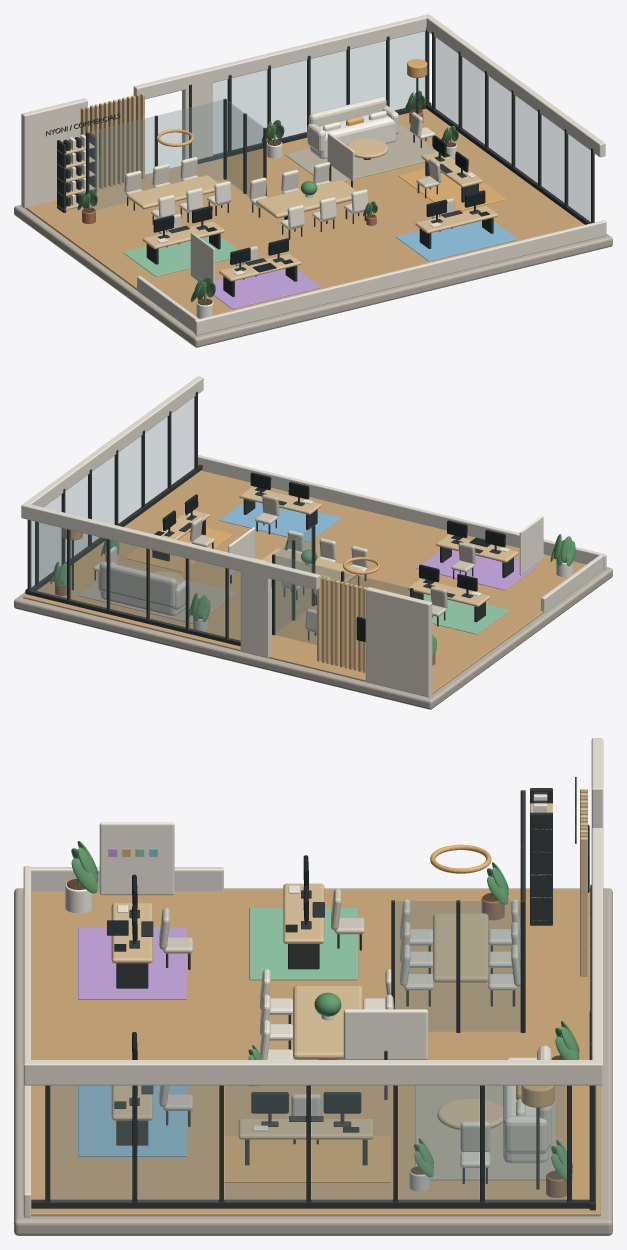
File: commercials_floor.glb
3 renders of one model, top to bottom at view 1: azimuth 30°, elevation 25°; view 2: azimuth 150°, elevation 25°; view 3: azimuth 270°, elevation 25°, orthographic. The views are drawn at different scales.
Visible parts, largest first — view 1: ARCH_OAK_FLOOR, MEETING_GLASS_BACK, ARCH_FLOOR_SLAB, ARCH_FRONT_EDGE, ARCH_BACK_TOP_BEAM, ARCH_BACK_WALL_LEFT, ARCH_RIGHT_TOP_BEAM, LOUNGE_RUG, MEETING_GLASS_SIDE, RUG_PULSE, WIN_BACK_GLASS_2, WIN_BACK_GLASS_1 (+31 smaller); view 2: ARCH_OAK_FLOOR, ARCH_FLOOR_SLAB, ARCH_BACK_WALL_LEFT, ARCH_BACK_TOP_BEAM, ARCH_FRONT_EDGE, MEETING_GLASS_BACK, ARCH_RIGHT_TOP_BEAM, ARCH_BACK_WALL_MID, WIN_BACK_GLASS_4, WIN_BACK_GLASS_5, WIN_BACK_GLASS_1, WIN_BACK_GLASS_2 (+29 smaller); view 3: ARCH_OAK_FLOOR, ARCH_FLOOR_SLAB, MEETING_GLASS_SIDE, ARCH_RIGHT_TOP_BEAM, WIN_RIGHT_GLASS_5, WIN_RIGHT_GLASS_0, WIN_RIGHT_GLASS_1, WIN_RIGHT_GLASS_2, WIN_RIGHT_GLASS_3, WIN_RIGHT_GLASS_4, RUG_HUNTER, LOUNGE_RUG (+34 smaller).
Part boxes in pixels (bbox=[...]): ARCH_OAK_FLOOR: bbox=[25, 108, 584, 318]; MEETING_GLASS_BACK: bbox=[88, 99, 223, 209]; ARCH_FLOOR_SLAB: bbox=[14, 166, 612, 347]; ARCH_FRONT_EDGE: bbox=[194, 220, 606, 335]; ARCH_BACK_TOP_BEAM: bbox=[133, 14, 430, 99]; ARCH_BACK_WALL_LEFT: bbox=[21, 98, 87, 208]; ARCH_RIGHT_TOP_BEAM: bbox=[425, 15, 605, 157]; LOUNGE_RUG: bbox=[284, 125, 436, 181]; MEETING_GLASS_SIDE: bbox=[226, 100, 264, 195]; RUG_PULSE: bbox=[396, 220, 517, 261]; WIN_BACK_GLASS_2: bbox=[271, 60, 306, 139]; WIN_BACK_GLASS_1: bbox=[232, 70, 266, 149]; ARCH_OAK_FLOOR: bbox=[23, 470, 586, 694]; ARCH_FLOOR_SLAB: bbox=[14, 567, 612, 709]; ARCH_BACK_WALL_LEFT: bbox=[365, 587, 432, 697]; ARCH_BACK_TOP_BEAM: bbox=[21, 503, 319, 589]; ARCH_FRONT_EDGE: bbox=[198, 455, 606, 569]; MEETING_GLASS_BACK: bbox=[275, 555, 410, 644]; ARCH_RIGHT_TOP_BEAM: bbox=[22, 376, 203, 512]; ARCH_BACK_WALL_MID: bbox=[240, 556, 271, 658]; WIN_BACK_GLASS_4: bbox=[69, 530, 105, 609]; WIN_BACK_GLASS_5: bbox=[30, 520, 66, 599]; WIN_BACK_GLASS_1: bbox=[188, 559, 224, 637]; WIN_BACK_GLASS_2: bbox=[148, 549, 184, 628]; ARCH_OAK_FLOOR: bbox=[31, 889, 600, 1216]; ARCH_FLOOR_SLAB: bbox=[14, 888, 612, 1235]; MEETING_GLASS_SIDE: bbox=[395, 901, 520, 1031]; ARCH_RIGHT_TOP_BEAM: bbox=[23, 1060, 603, 1085]; WIN_RIGHT_GLASS_5: bbox=[485, 1086, 566, 1202]; WIN_RIGHT_GLASS_0: bbox=[51, 1086, 131, 1202]; WIN_RIGHT_GLASS_1: bbox=[138, 1086, 218, 1202]; WIN_RIGHT_GLASS_2: bbox=[225, 1086, 305, 1202]; WIN_RIGHT_GLASS_3: bbox=[312, 1086, 392, 1202]; WIN_RIGHT_GLASS_4: bbox=[399, 1086, 479, 1202]; RUG_HUNTER: bbox=[224, 1136, 390, 1182]; LOUNGE_RUG: bbox=[415, 1085, 554, 1180].
Size of the model in its own units: 16.4 by 3.86 by 12.4.
